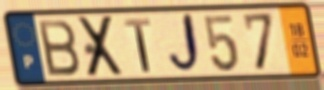5: (200, 12, 241, 73)
7: (241, 10, 278, 74)
B: (36, 18, 83, 79)
J: (166, 11, 204, 77)
T: (122, 17, 153, 75)
X: (76, 14, 126, 80)
